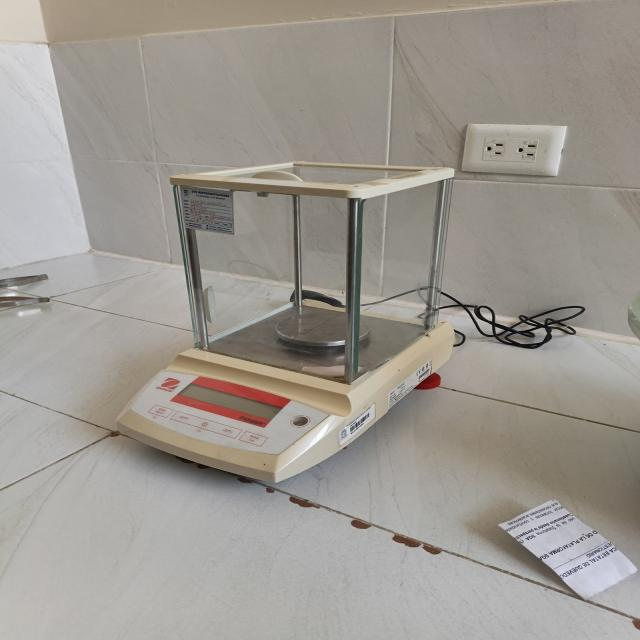Balanza Analitica de la Serie Ohaus Pioneer: (117, 161, 453, 481)
